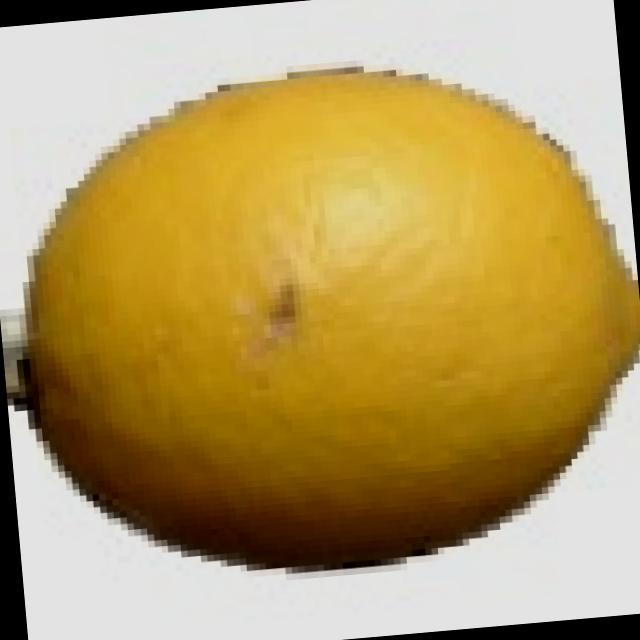lemon: (0, 17, 640, 607)
